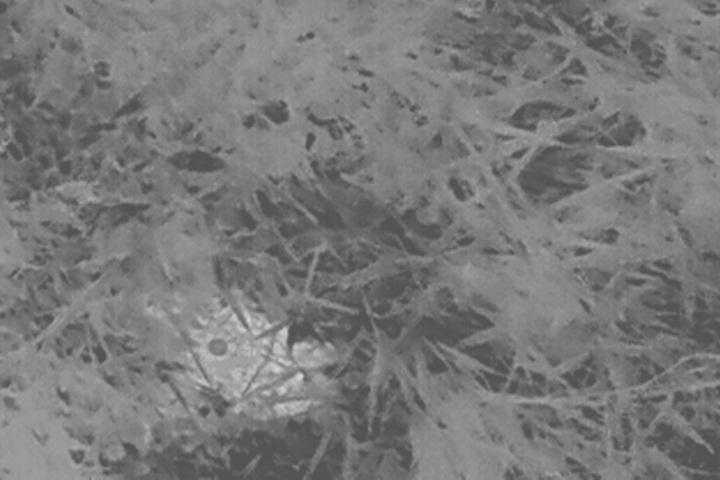landmine: (146, 291, 334, 417)
